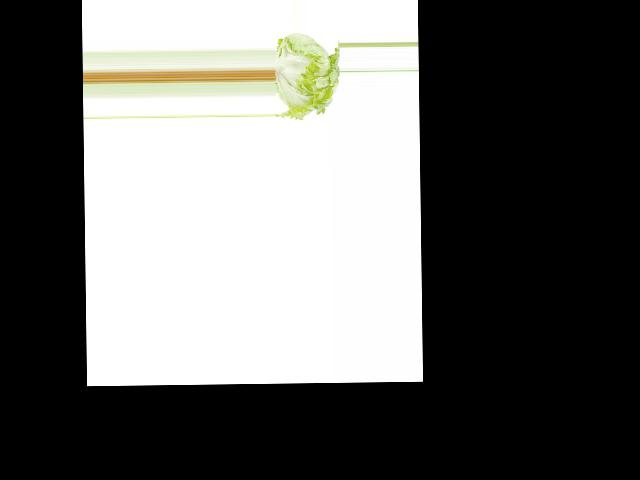lettuce: (273, 30, 340, 123)
